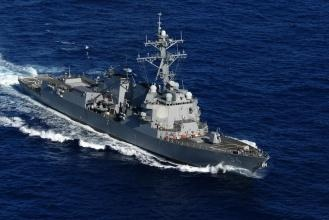warship: (16, 10, 278, 179)
